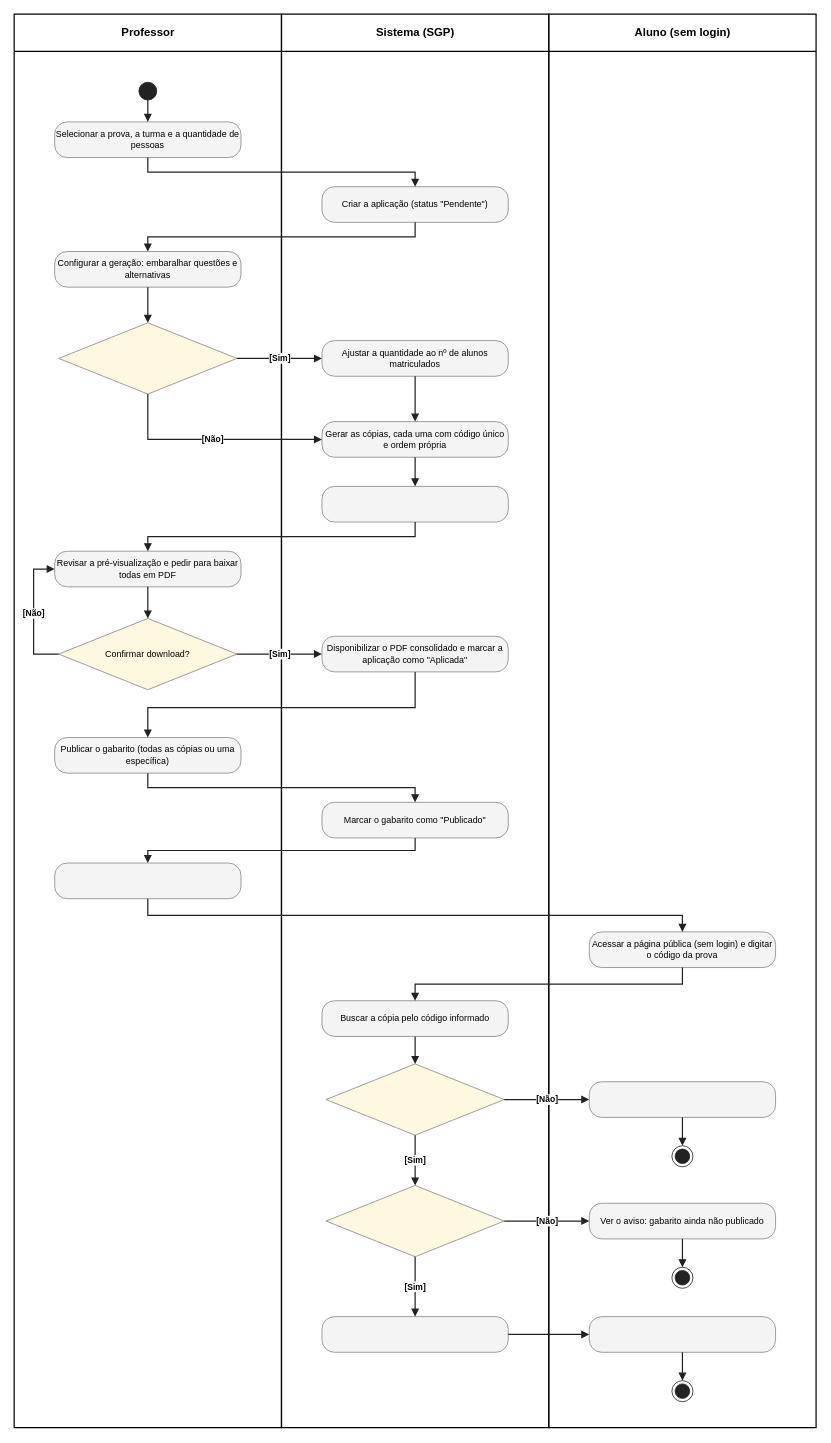
Some shapes in this 831 by 1443 pixel diagram are drawn without their labels. Each missing label, with the centre of its shape:
Consultar as respostas corretas: pixel 682 1334
Código encontrado?: pixel 414 1099
Divulgar o link público do gabarito aos alunos: pixel 147 880
Exibir a pré-visualização das provas: pixel 414 504
Exibir o gabarito da prova: pixel 414 1334
Gabarito publicado?: pixel 414 1221
Ver o aviso: código não encontrado: pixel 682 1099
Vincular aos alunos da turma?: pixel 147 358
